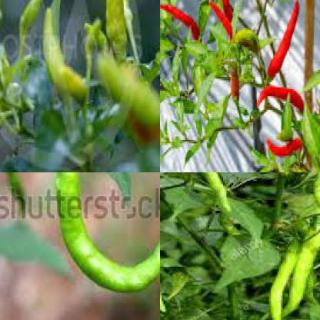green_chilli: (55, 172, 159, 298), (43, 0, 87, 109), (281, 233, 319, 319), (197, 172, 245, 240), (268, 237, 298, 319), (104, 0, 132, 58), (160, 220, 175, 316), (18, 0, 45, 47), (309, 172, 319, 234)
